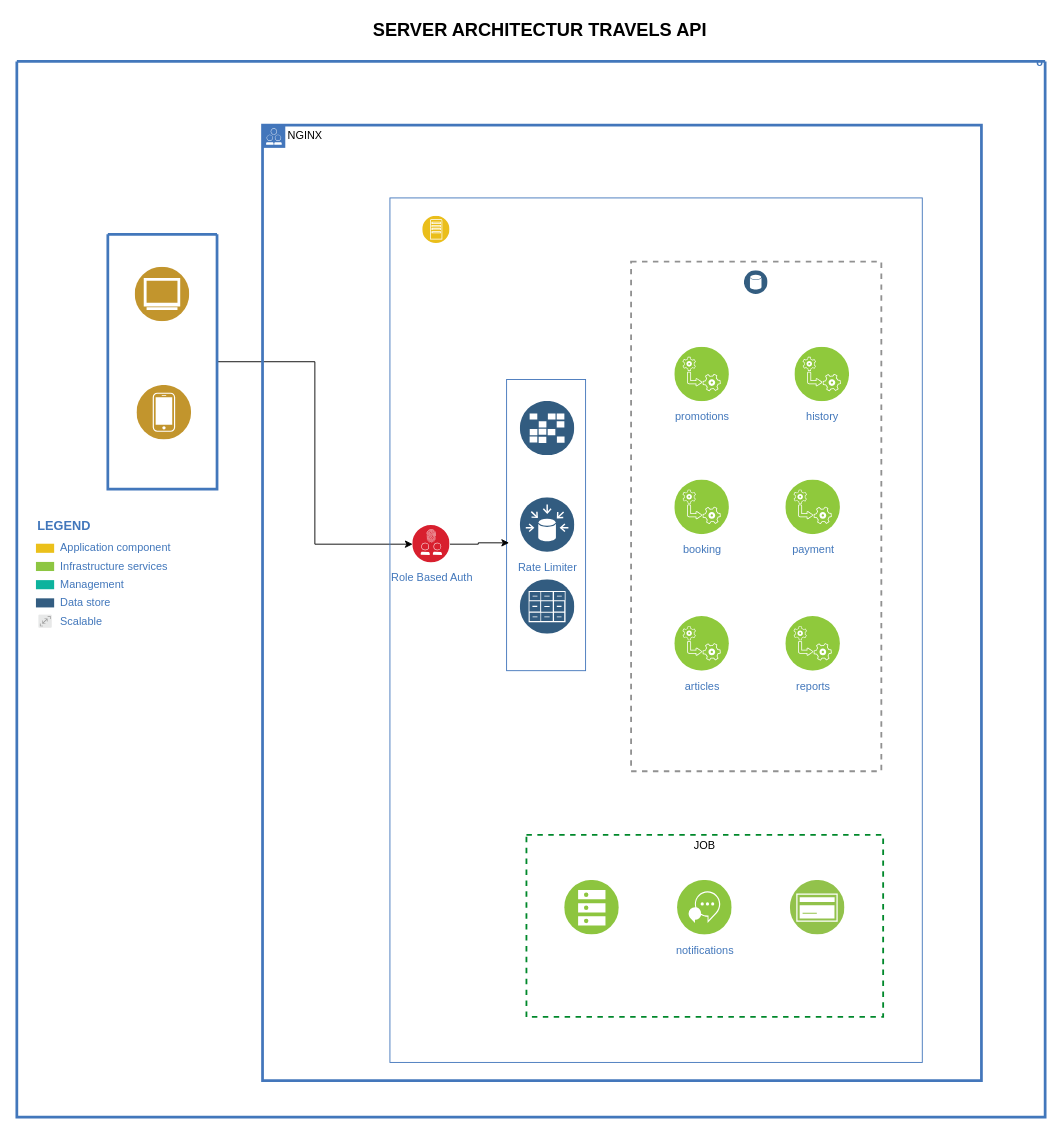
The diagram is 1062 pixels wide and 1134 high, and some of its shapes have lost their labels. The shapes that lost their labels are listed below. From the top down, each one's centre as x and y in pixels, then its label:
[436,229]: TRAVELS API
[756,282]: mysql
[547,428]: Redis
[547,606]: Queue
[591,907]: Garbage
[817,907]: payment callback
